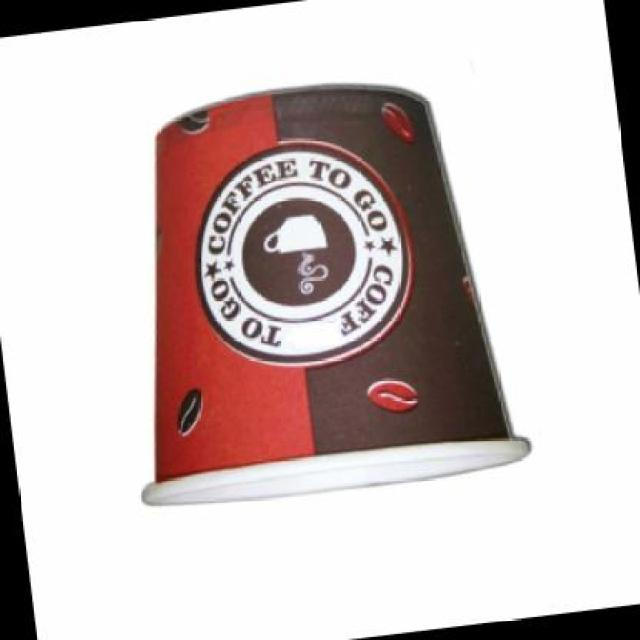non-biodegradable: (71, 52, 538, 534)
